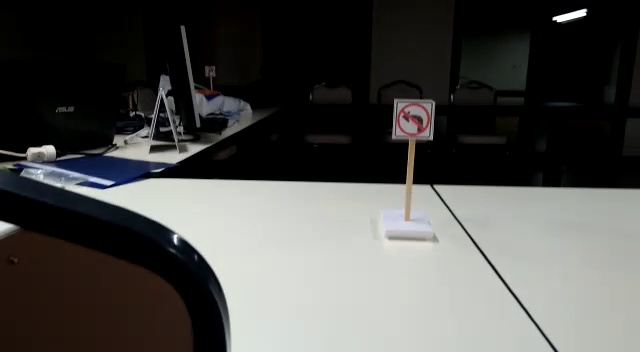sola_donulmez: (392, 98, 436, 139)
